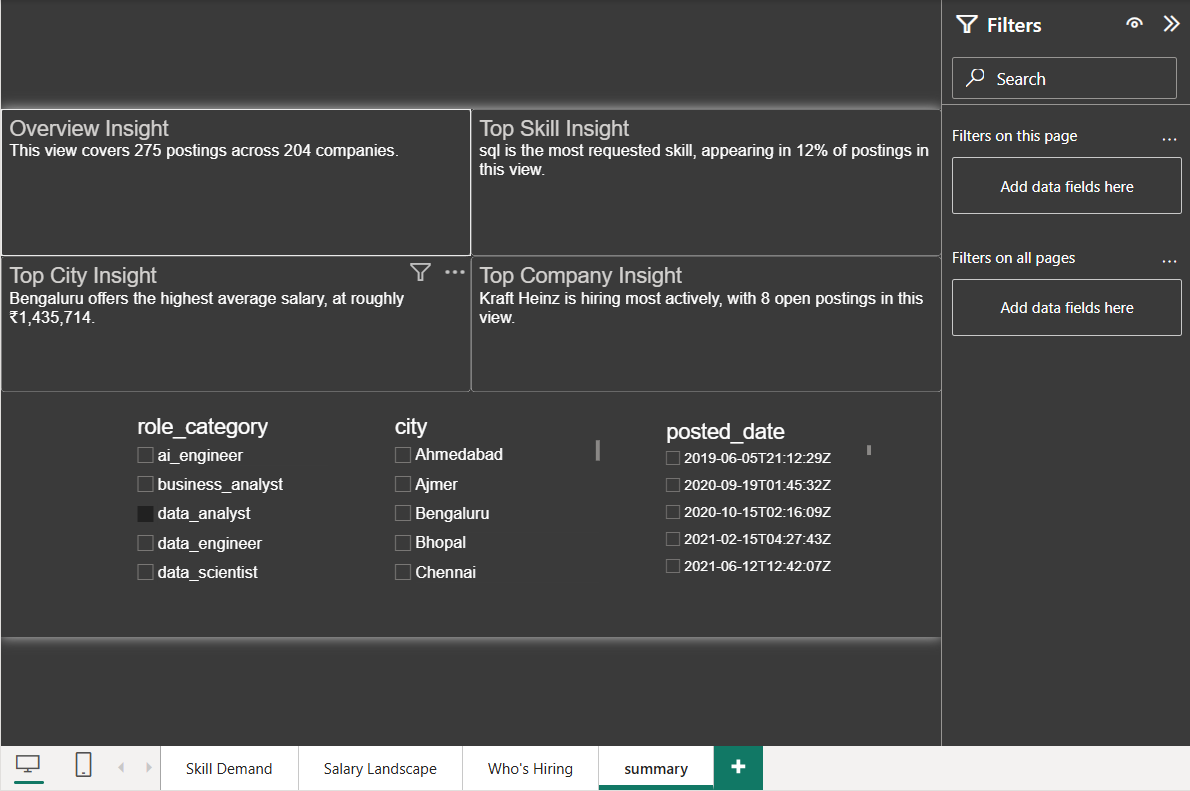

The page's visual inventory and layout, read from the dashboard file:
{"tool":"powerbi","page":{"name":"summary","canvas":[1920,1080],"ordinal":3},"visuals":[{"type":"cardVisual","fields":{"Data":["postings_salary.Top City Insight"]},"box":[0,300.5,959.2,277.9],"z":2},{"type":"cardVisual","fields":{"Data":["postings_salary.Top Company Insight"]},"box":[959.2,300.5,961.2,277.9],"z":3},{"type":"cardVisual","fields":{"Data":["postings_salary.Overview Insight"]},"box":[0,0,959.2,300.5],"z":4},{"type":"cardVisual","fields":{"Data":["postings.Top Skill Insight"]},"box":[959.2,0,961.2,300.5],"z":5},{"type":"slicer","fields":{"Values":["postings_salary.role_category"]},"box":[269.6,623.7,397.3,395.2],"z":6},{"type":"slicer","fields":{"Values":["postings_salary.city"]},"box":[796.6,623.7,426.1,352],"z":7},{"type":"slicer","fields":{"Values":["postings.posted_date"]},"box":[1350.3,634,426.1,327.3],"z":8}]}

Visuals, with their boxes on the page's 1920x1080 design canvas (x1, y1, x2, y2). These are canvas units, not pixel positions in the 1190x791 screenshot, which may show the page scaled, cropped or inside an application window:
cardVisual - postings_salary.Top City Insight: pyautogui.locateOnScreen(0, 300, 959, 578)
cardVisual - postings_salary.Top Company Insight: pyautogui.locateOnScreen(959, 300, 1920, 578)
cardVisual - postings_salary.Overview Insight: pyautogui.locateOnScreen(0, 0, 959, 300)
cardVisual - postings.Top Skill Insight: pyautogui.locateOnScreen(959, 0, 1920, 300)
slicer - postings_salary.role_category: pyautogui.locateOnScreen(270, 624, 667, 1019)
slicer - postings_salary.city: pyautogui.locateOnScreen(797, 624, 1223, 976)
slicer - postings.posted_date: pyautogui.locateOnScreen(1350, 634, 1776, 961)
